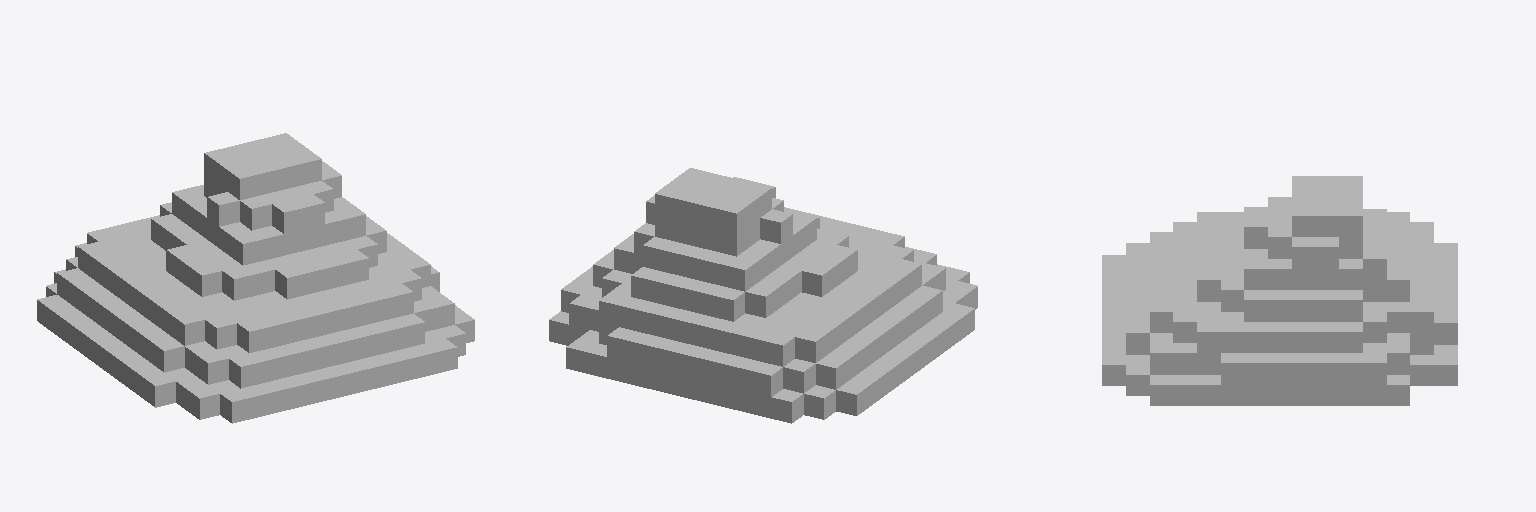
Rendered from Hill.obj.
3 renders of one model, left to right at view 1: azimuth 30°, elevation 25°; view 2: azimuth 150°, elevation 25°; view 3: azimuth 270°, elevation 25°, orthographic.
Size of the model in its own units: 15 by 7 by 15.